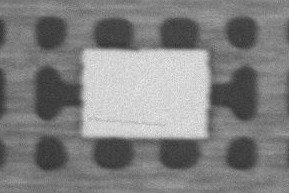DIE_CRACK: (133, 79, 249, 83)
